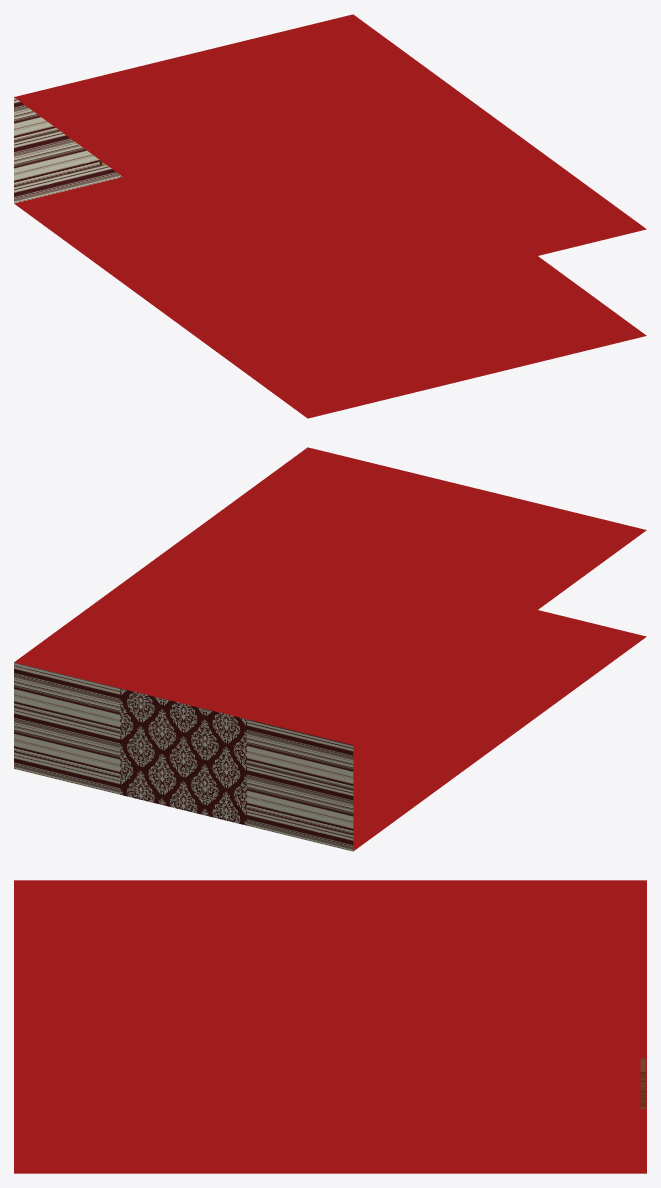
Rendered from room.fbx.
The picture shows the model from 3 angles, top to bottom: view 1: azimuth 30°, elevation 25°; view 2: azimuth 150°, elevation 25°; view 3: azimuth 270°, elevation 25°; orthographic projection. The views are drawn at different scales.
Visible parts, largest first — view 1: room; view 2: room; view 3: room.
Boxes of the visible parts, x1,y1,x2,y2 form: room: (14,14,646,418); room: (14,447,646,851); room: (14,880,646,1173).
Bounding box in the file's own units: 80 × 24 × 120.
Materials: 4 (3 with a texture image).
